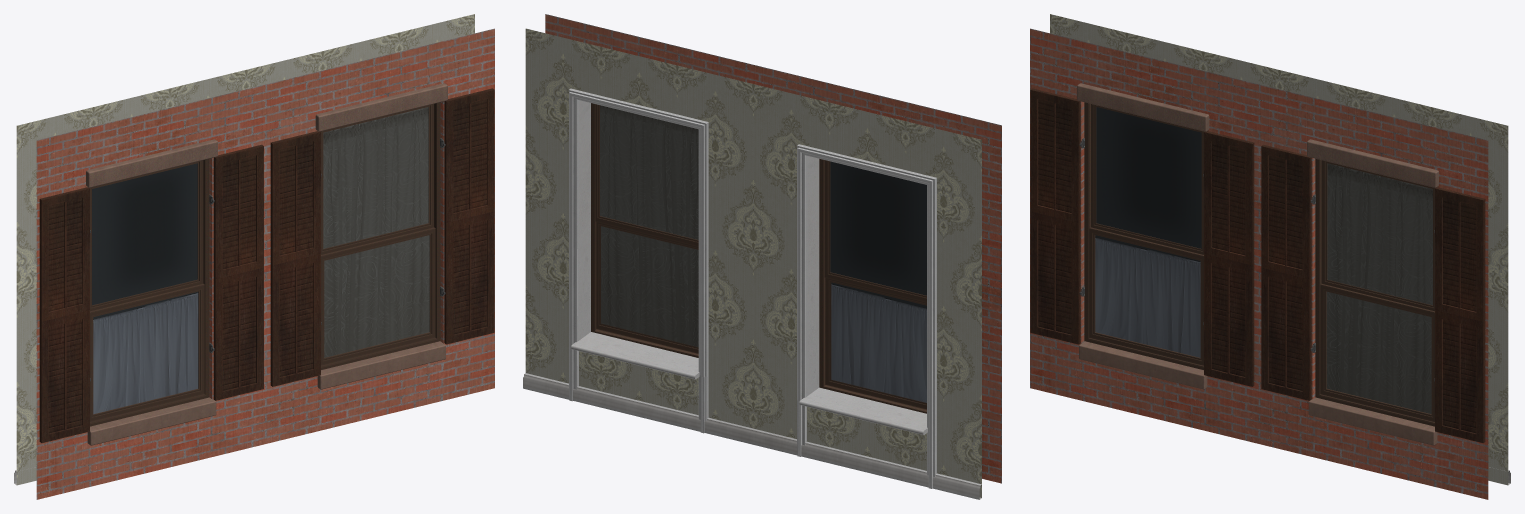
The model's file is House_03_Window_01.fbx.
3 renders of one model, left to right at view 1: azimuth 30°, elevation 25°; view 2: azimuth 150°, elevation 25°; view 3: azimuth 330°, elevation 25°, orthographic.
Visible parts, largest first — view 1: House_03_Window_01_LOD0; view 2: House_03_Window_01_LOD0; view 3: House_03_Window_01_LOD0.
Part boxes in pixels (<box>): House_03_Window_01_LOD0: <box>14,14,494,499</box>; House_03_Window_01_LOD0: <box>523,14,1001,499</box>; House_03_Window_01_LOD0: <box>1030,14,1510,499</box>.
Size of what is drawn, in the model's own units: 400 by 300 by 44.59.
